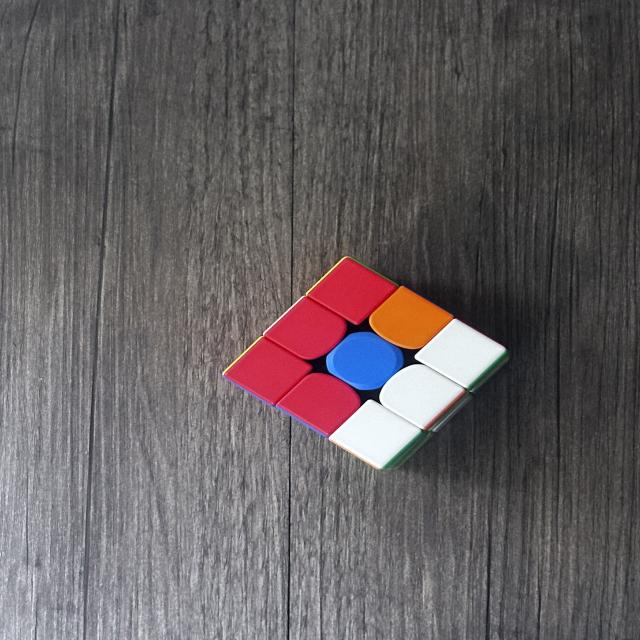sticker: (412, 318, 509, 392), (328, 399, 427, 470), (306, 255, 400, 326), (222, 336, 310, 409), (377, 363, 468, 432), (276, 372, 362, 439), (368, 284, 453, 350), (264, 296, 348, 361), (324, 331, 404, 392)
